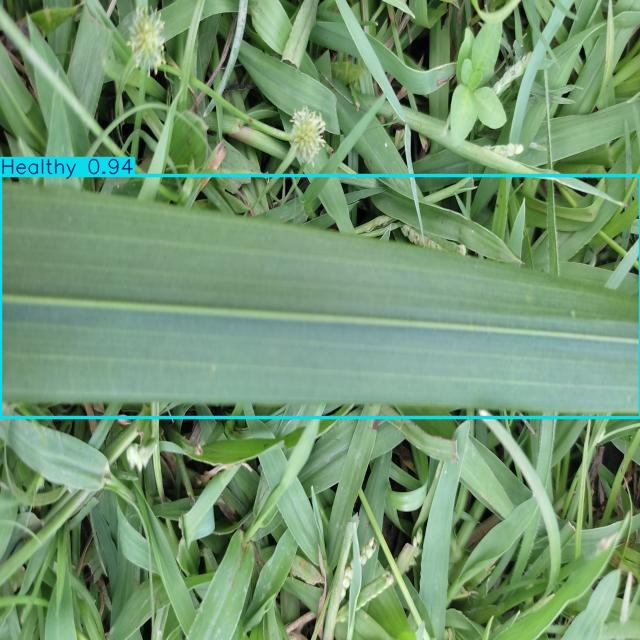Healthy: (0, 175, 640, 417)
